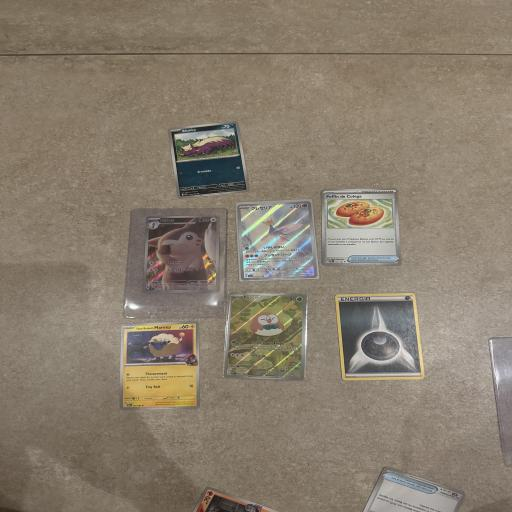card: (335, 288, 426, 386), (117, 322, 202, 410), (223, 292, 307, 380), (168, 120, 250, 200), (321, 188, 402, 267), (238, 201, 317, 281), (141, 215, 221, 293)
